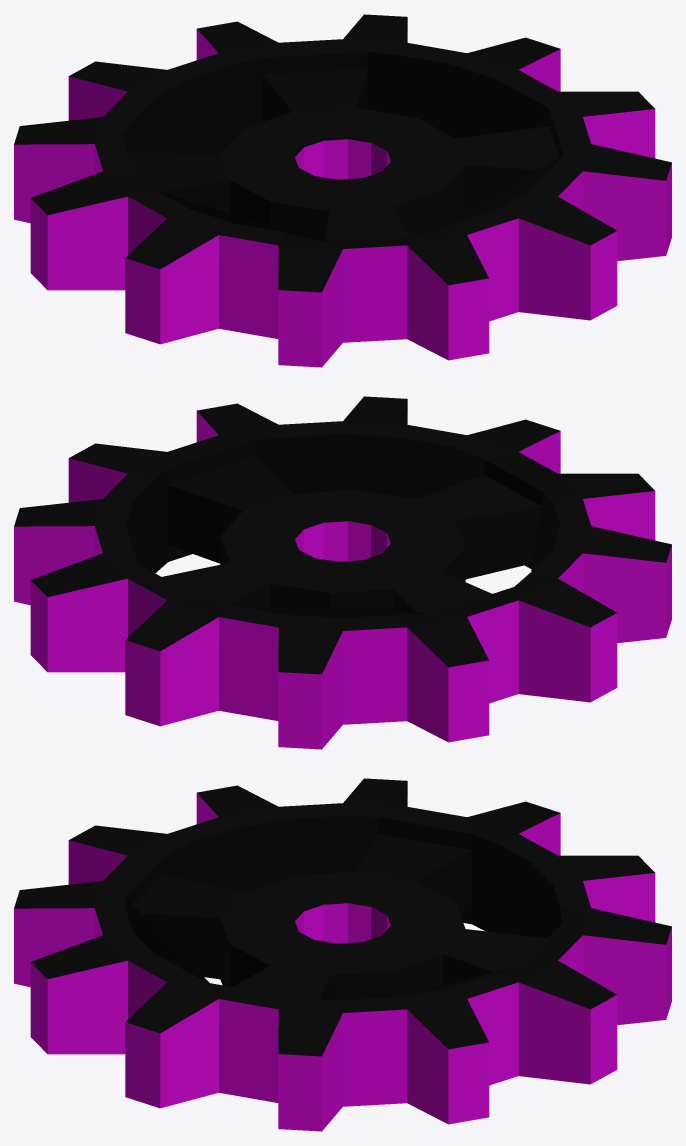
File: D1.2GearV2.fbx
3 renders of one model, top to bottom at view 1: azimuth 30°, elevation 25°; view 2: azimuth 150°, elevation 25°; view 3: azimuth 270°, elevation 25°, orthographic.
Parts seen in each view (by area): view 1: D1_2GearV2; view 2: D1_2GearV2; view 3: D1_2GearV2.
Part boxes in pixels (x1=…): D1_2GearV2: x1=14, y1=14, x2=671, y2=367; D1_2GearV2: x1=14, y1=396, x2=671, y2=749; D1_2GearV2: x1=14, y1=778, x2=671, y2=1131.
Bounding box in the file's own units: 3.18 × 0.5023 × 3.18.
